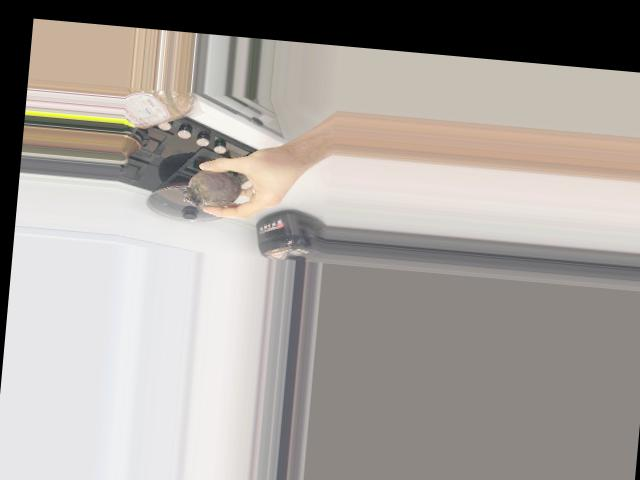beet: (181, 168, 245, 209)
